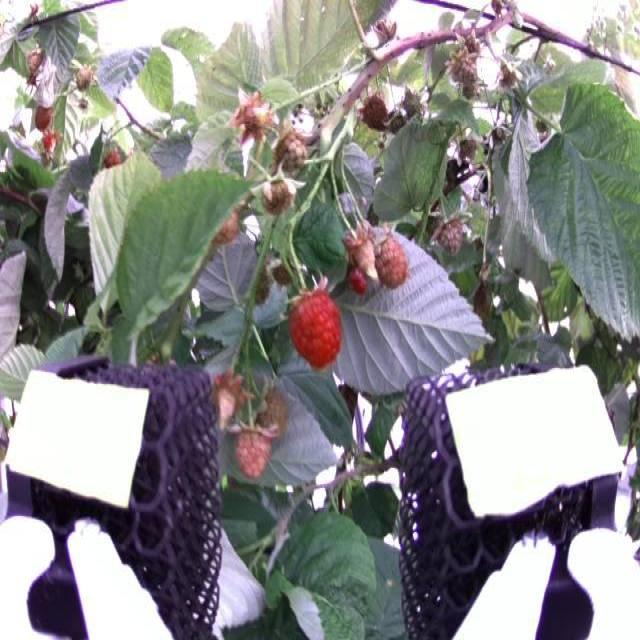Riped berries: (284, 278, 348, 368)
